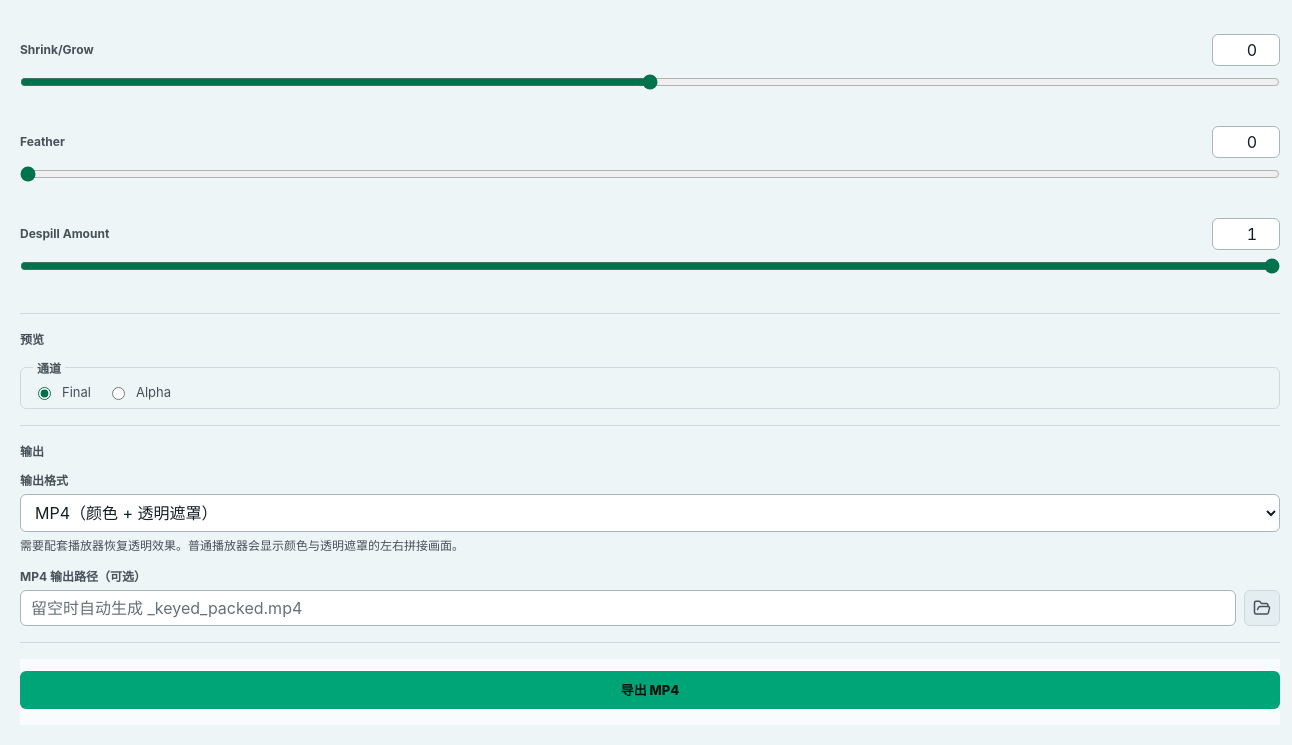
Test: ChromaKeyerForm › defaults video to MP4 with an accessible format selector and save-file picker
The image size is (1292, 745).
(page scrolled)
Expected: the dropdown labelled "输出格式" shows "MP4（颜色 + 透明遮罩）", x1=20 y1=494 x2=1280 y2=532
Expected: the button "导出 MP4" is enabled, x1=20 y1=671 x2=1280 y2=709
Click the button named "指定MP4 输出路径（可选）" at point(1262, 608), box x1=1244 y1=590 x2=1280 y2=626
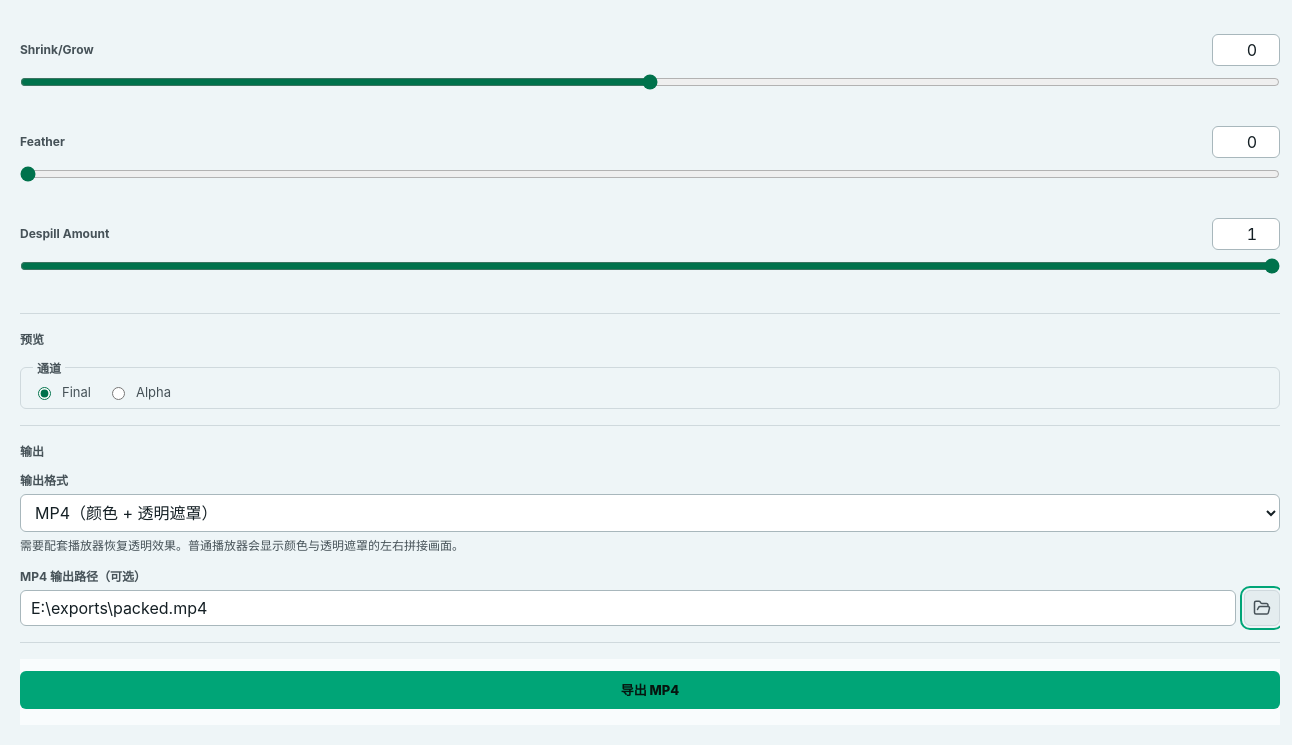
Expected: the field labelled "MP4 输出路径（可选）" holds "E:\\exports\\packed.mp4", x1=20 y1=590 x2=1236 y2=626
Select "PNG 序列" in the dropdown labelled "输出格式" at point(650, 513), box x1=20 y1=494 x2=1280 y2=532
(page scrolled)
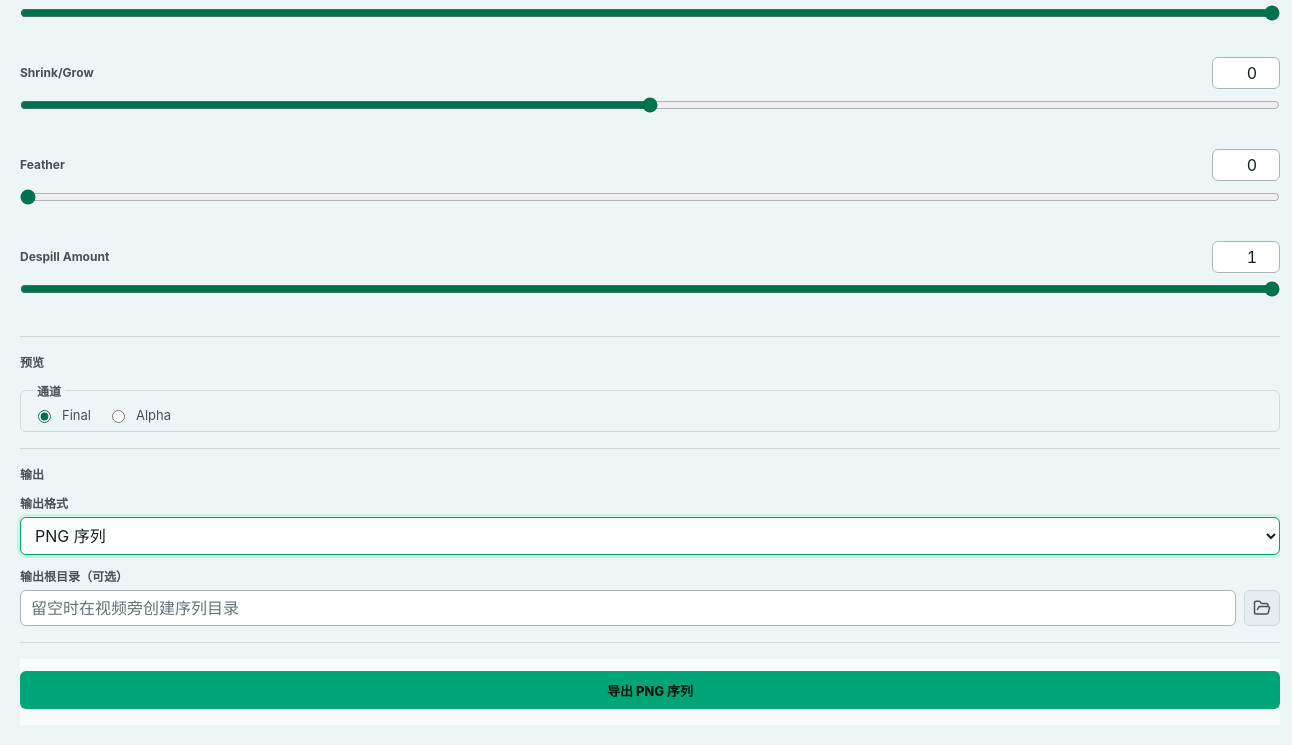
Expected: the field labelled "输出根目录（可选）" is shown, x1=20 y1=590 x2=1236 y2=626
Expected: the text "需要配套播放器" is gone
Select "MP4（颜色 + 透明遮罩）" in the dropdown labelled "输出格式" at point(650, 536), box x1=20 y1=517 x2=1280 y2=555
(page scrolled)
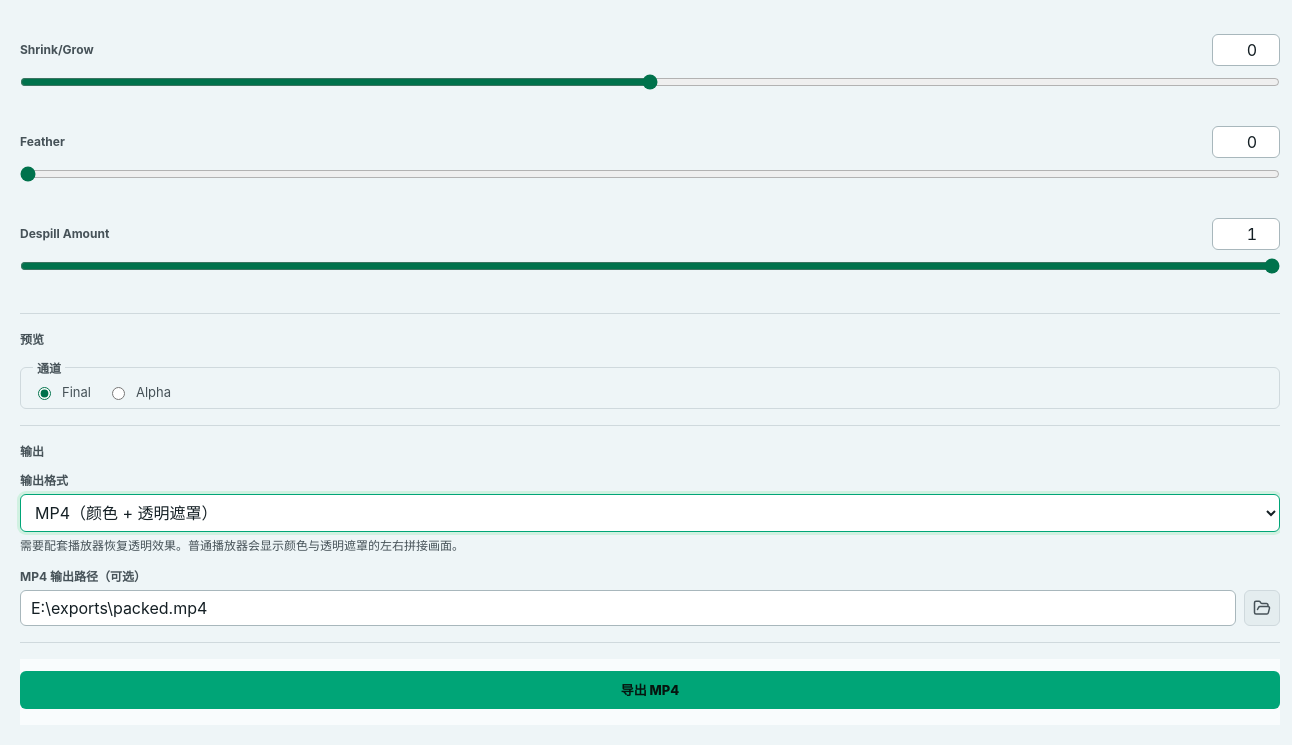
Expected: the field labelled "MP4 输出路径（可选）" holds "E:\\exports\\packed.mp4", x1=20 y1=590 x2=1236 y2=626
